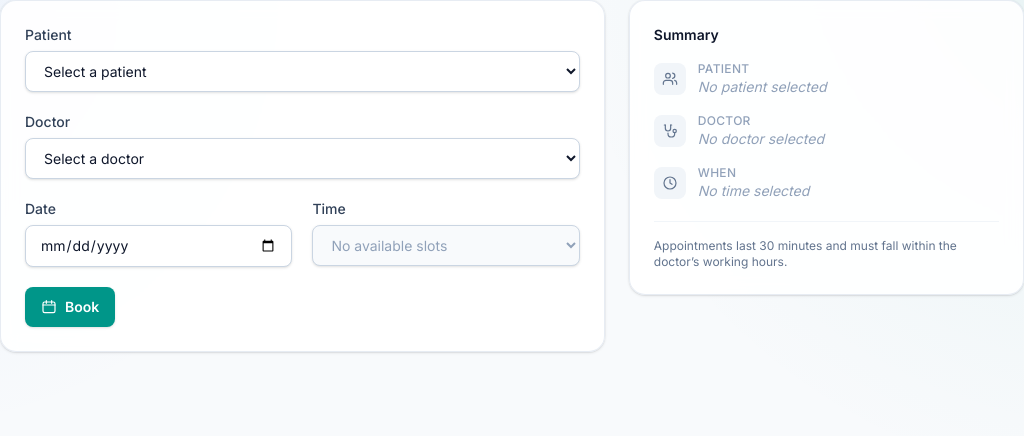
Scenario: BookAppointment › shows server error message when booking fails
Select "Jane Doe" in the dropdown labelled "Patient": [302, 72] box [25,51,580,92]
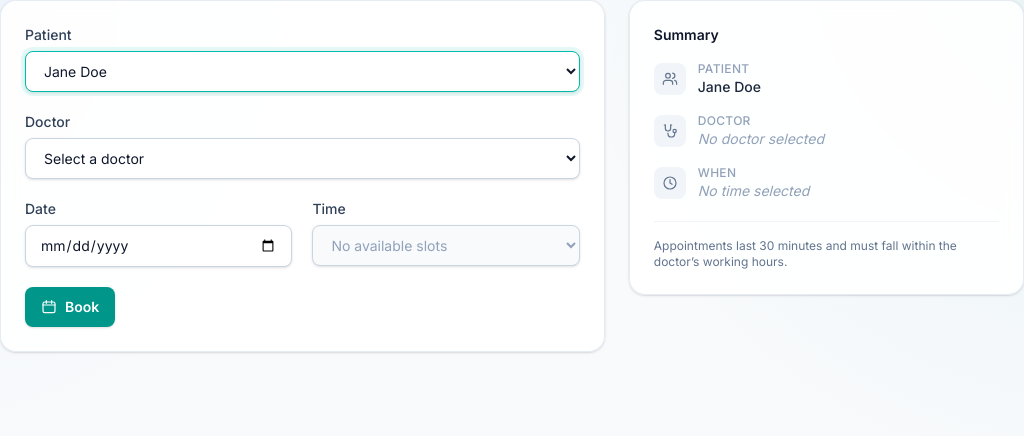
Select "Dr. Smith (Cardiology)" in the dropdown labelled "Doctor": [302, 158] box [25,138,580,179]
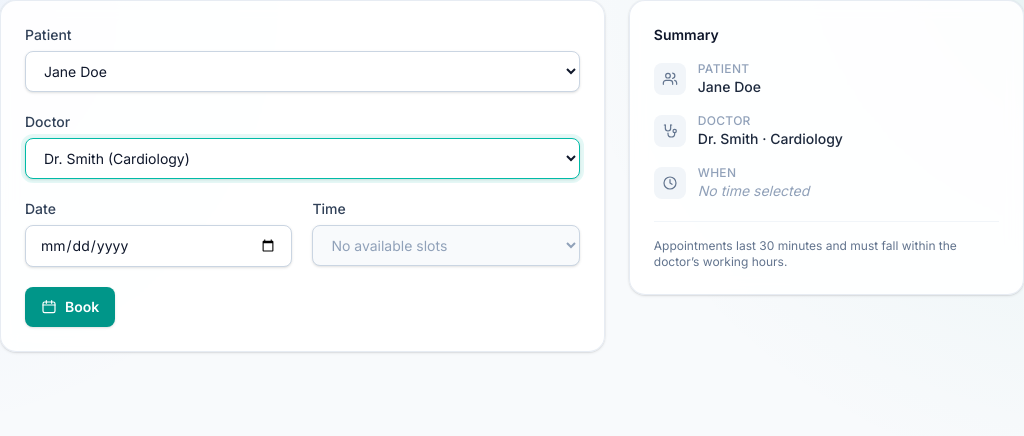
In the date field labelled "Date": [159, 246] box [25,225,292,267], type "2026-07-14"
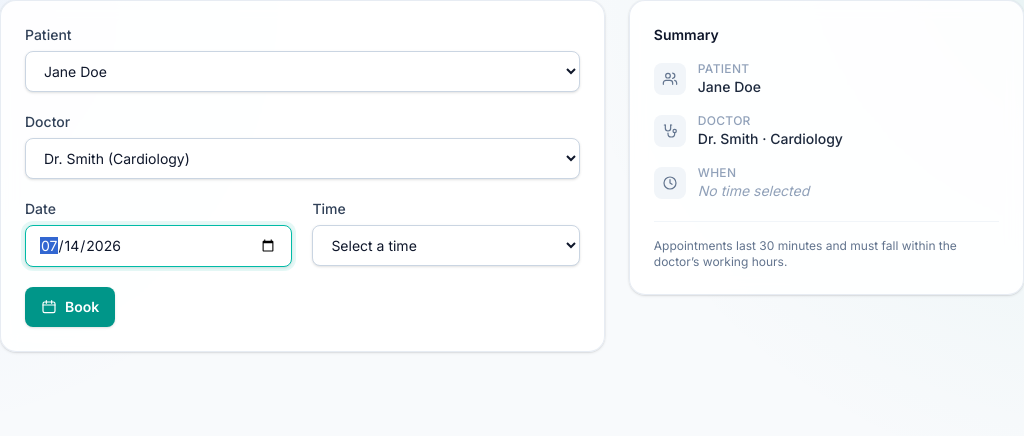
Select "09:00" in the dropdown labelled "Time": [446, 246] box [312,225,580,266]
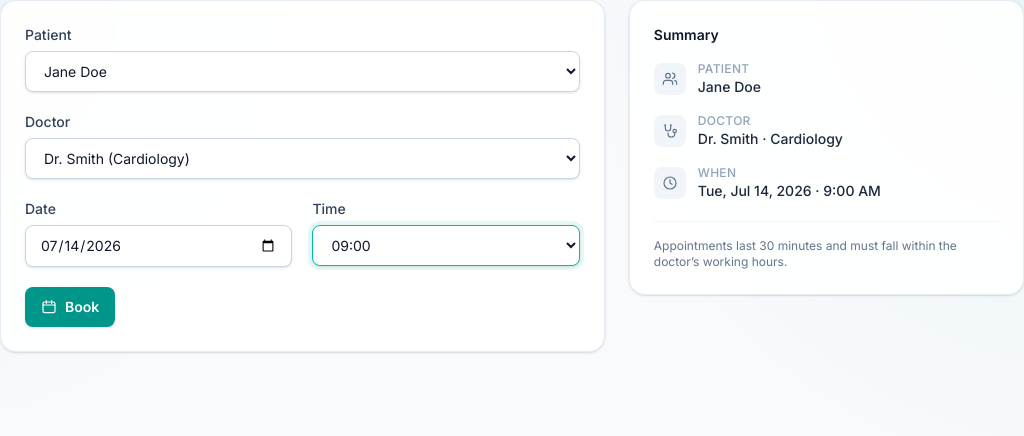
Click the button "Book": [70, 307] box [25,287,115,327]
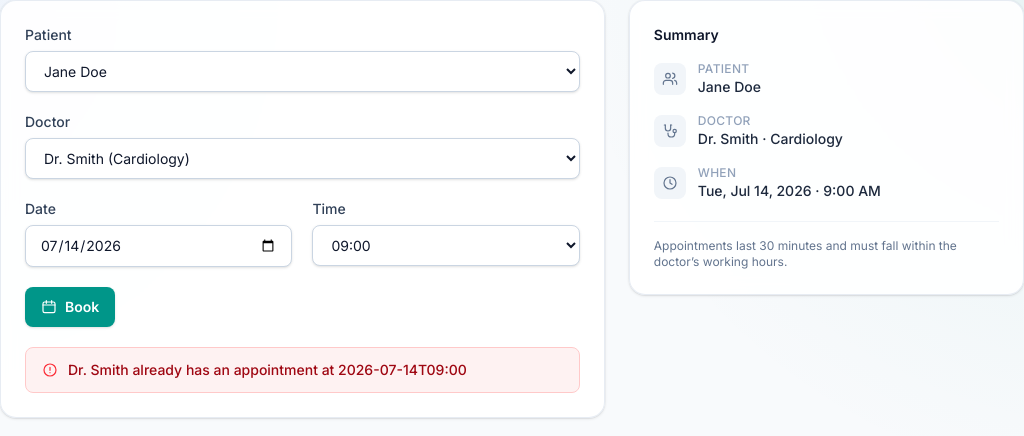
expect the text "Dr. Smith already has an appointment at 2026-07-14T09:00" is shown: met, box [68,360,467,380]
